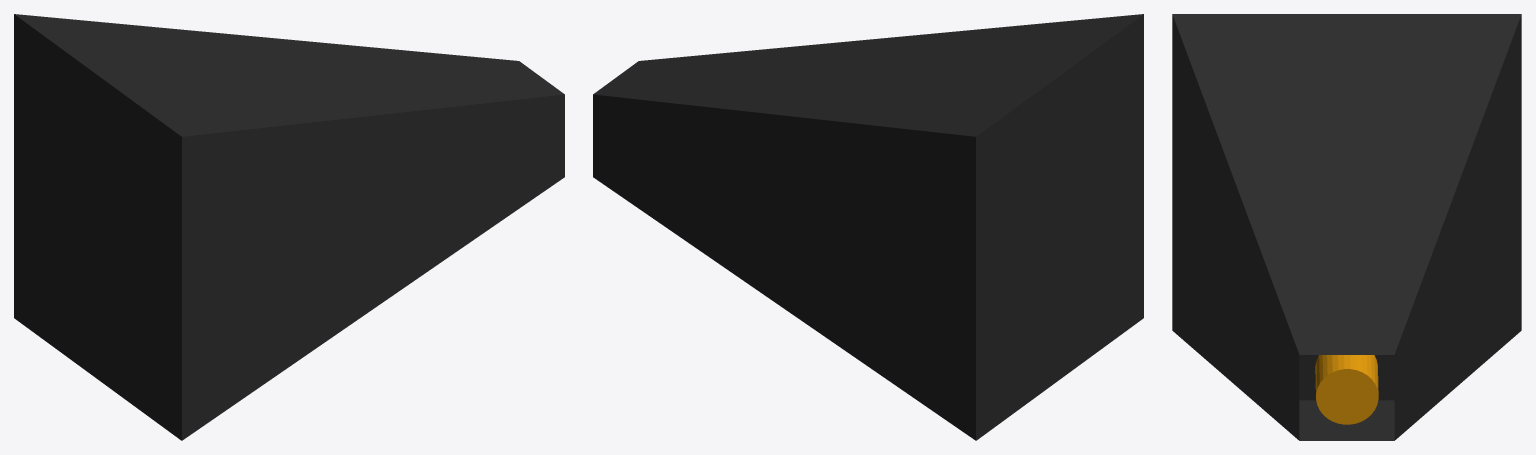
Rendered from wyrzutnia.fbx.
The picture shows the model from 3 angles, left to right: view 1: azimuth 30°, elevation 25°; view 2: azimuth 150°, elevation 25°; view 3: azimuth 270°, elevation 25°; orthographic projection. The views are drawn at different scales.
Visible parts, largest first — view 1: Cube; view 2: Cube; view 3: Cube, Cylinder.
Part boxes in pixels (x1,y1,x2,y2): Cube: (14, 14, 564, 440); Cube: (593, 14, 1143, 440); Cube: (1172, 14, 1521, 440); Cylinder: (1315, 355, 1378, 424).
Size of the model in its own units: 306 by 200 by 200.
